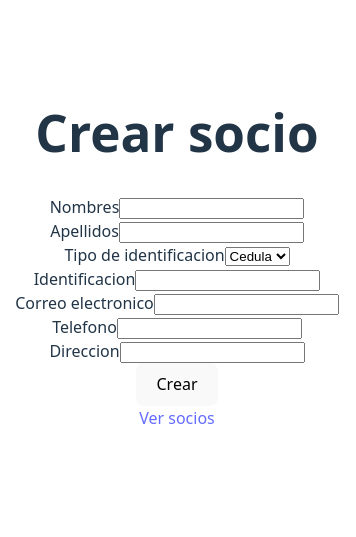
Test: Register - Crear socio › muestra errores al enviar el formulario vacío
Click the button "Crear": {"x": 177, "y": 385} [136,363,217,406]
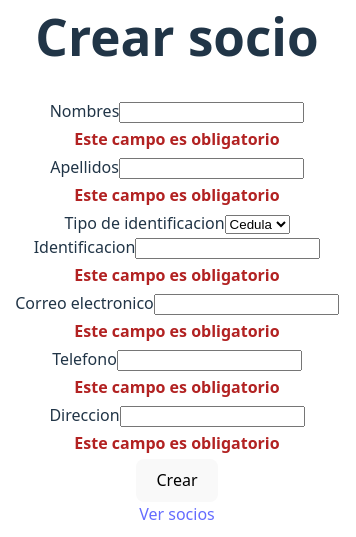
expect the text with test id "error-nombres" is shown: met, box [74,128,279,150]
expect the text with test id "error-apellidos" is shown: met, box [74,184,279,206]
expect the text with test id "error-identificacion" is shown: met, box [74,264,279,286]
